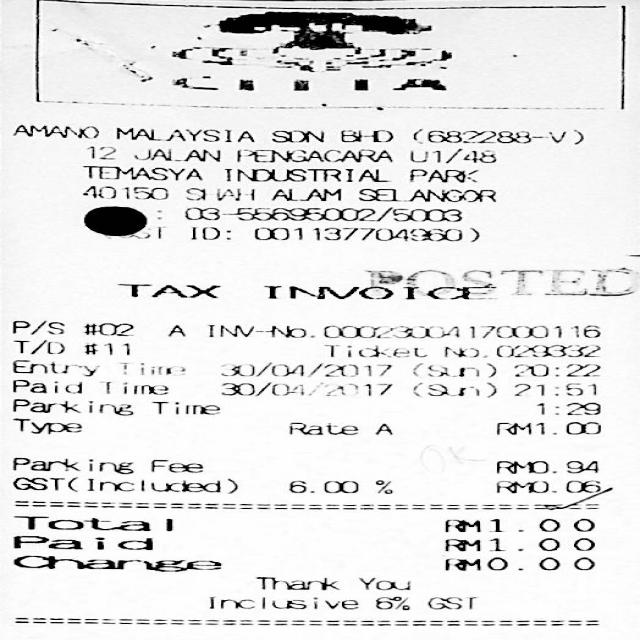text: (6, 552, 219, 574), (321, 323, 600, 338), (185, 206, 460, 221), (9, 476, 236, 493), (262, 282, 494, 298), (254, 227, 476, 241), (12, 515, 170, 531), (218, 362, 390, 376), (218, 382, 390, 396), (204, 595, 359, 610), (221, 167, 386, 181), (115, 126, 252, 142), (10, 456, 130, 474), (412, 128, 563, 142), (444, 517, 592, 531), (444, 556, 592, 570), (10, 398, 130, 415), (234, 148, 390, 161), (11, 535, 150, 549), (492, 455, 600, 473), (356, 187, 494, 201), (81, 164, 200, 180), (444, 538, 592, 550), (488, 478, 600, 493), (116, 282, 217, 298), (10, 359, 99, 377), (493, 421, 601, 434), (411, 381, 494, 397), (205, 324, 307, 337), (495, 344, 597, 357), (409, 148, 494, 163), (79, 185, 166, 199), (131, 147, 217, 161), (12, 124, 97, 138), (253, 576, 336, 590), (328, 344, 424, 356), (512, 382, 594, 396), (512, 363, 598, 376), (411, 363, 494, 376), (114, 361, 184, 376), (11, 418, 78, 433), (11, 378, 79, 392), (409, 168, 475, 182), (183, 187, 252, 200), (149, 401, 217, 414), (287, 421, 355, 434), (287, 479, 355, 492), (10, 338, 62, 354), (423, 595, 475, 611), (269, 188, 338, 200), (535, 401, 598, 414), (104, 381, 166, 394), (10, 320, 62, 334), (269, 129, 321, 142), (148, 459, 200, 472), (83, 322, 131, 336), (358, 576, 408, 589), (338, 130, 391, 142), (368, 596, 409, 610), (83, 342, 127, 354), (188, 226, 228, 239), (444, 346, 476, 357), (88, 146, 114, 158), (372, 478, 390, 494), (165, 324, 183, 336), (372, 422, 390, 434)
